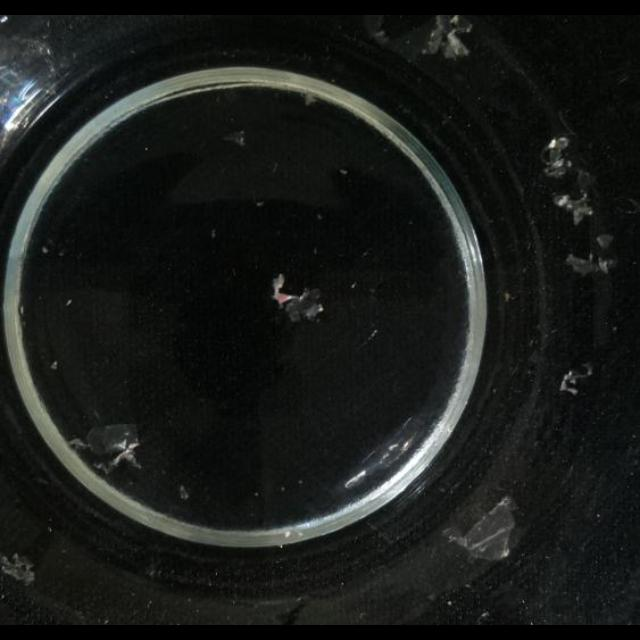Fibre: (443, 494, 517, 564), (70, 424, 142, 476), (424, 15, 472, 59), (552, 182, 594, 224), (0, 552, 36, 584), (560, 363, 594, 395), (565, 252, 609, 276), (222, 130, 245, 146), (303, 92, 319, 106), (178, 485, 190, 501), (340, 169, 348, 175), (20, 304, 24, 316)
Fragment: (271, 272, 323, 322)
microbeads: (478, 612, 489, 620), (50, 360, 58, 370), (369, 330, 377, 340), (284, 530, 292, 538), (256, 200, 264, 206), (42, 246, 48, 254)
